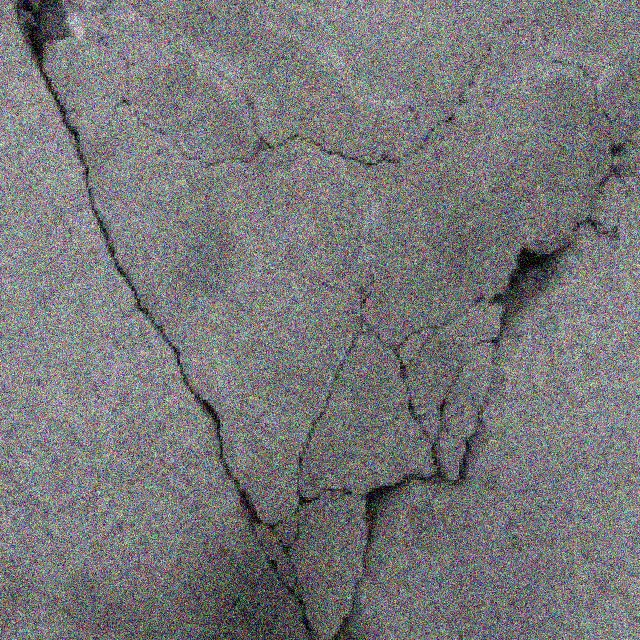SurfaceCrack: (304, 116, 640, 632)
